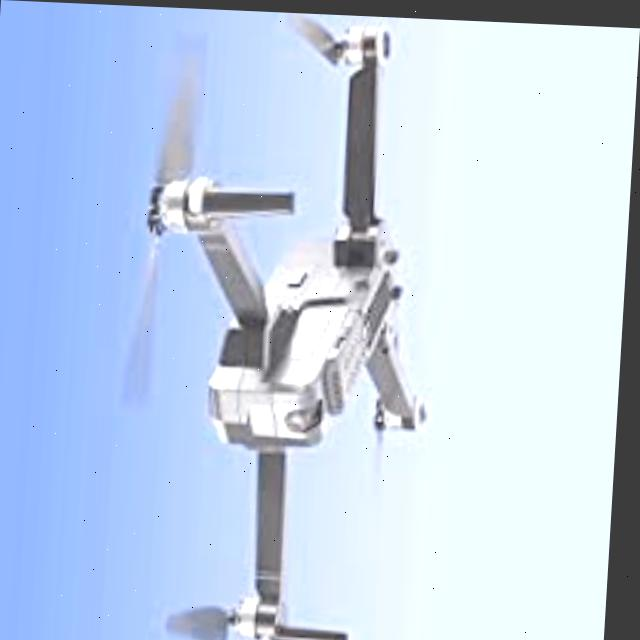drone: (74, 4, 466, 640)
